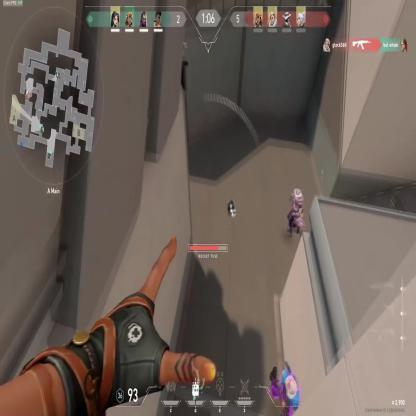enemy: (285, 186, 303, 242)
enemy_head: (294, 189, 302, 199)
